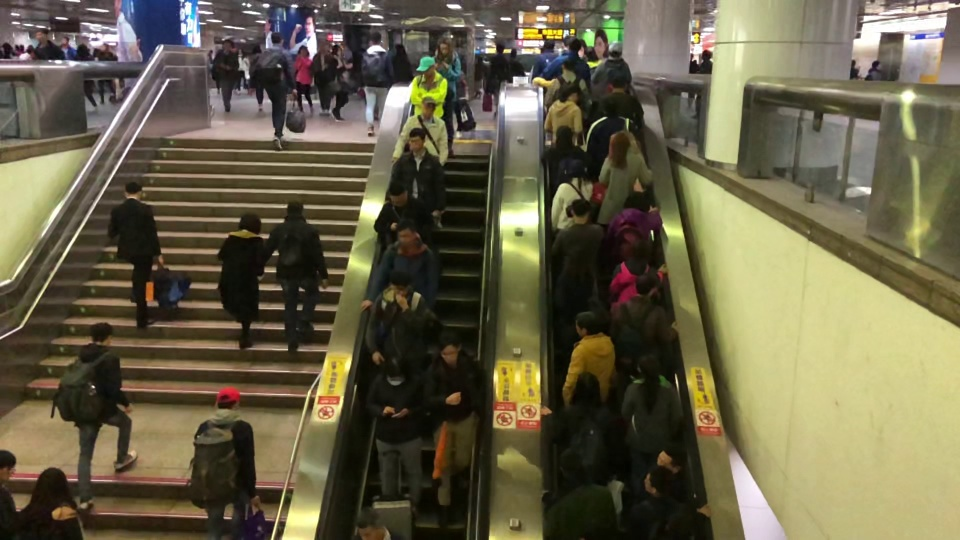person_head: (30, 466, 76, 514), (569, 370, 603, 411), (353, 505, 387, 539), (641, 466, 675, 500), (561, 244, 591, 278), (607, 132, 632, 171), (382, 355, 409, 386), (656, 446, 684, 475), (573, 310, 601, 338), (622, 191, 651, 216), (439, 335, 463, 365), (636, 351, 661, 379), (0, 448, 17, 488), (214, 387, 241, 412), (389, 271, 412, 299), (569, 199, 592, 225), (635, 273, 658, 299), (627, 238, 651, 262), (90, 322, 113, 346), (396, 220, 417, 246), (415, 55, 436, 80), (388, 183, 409, 208), (408, 127, 428, 153), (436, 35, 453, 64), (239, 213, 261, 235), (601, 94, 622, 117), (565, 157, 586, 179), (559, 84, 582, 104), (418, 95, 437, 119), (609, 73, 628, 95), (555, 125, 574, 146), (124, 181, 143, 200), (286, 198, 303, 217), (608, 41, 623, 58), (33, 27, 48, 43), (567, 38, 582, 54), (270, 31, 284, 48), (584, 46, 599, 61), (368, 30, 382, 45), (561, 59, 575, 74), (393, 43, 408, 56), (561, 35, 573, 51), (76, 43, 89, 56), (221, 39, 234, 52), (542, 38, 555, 51), (298, 43, 310, 57), (701, 49, 713, 63), (318, 39, 329, 53), (332, 44, 343, 56), (1, 42, 12, 51), (496, 43, 505, 54), (871, 60, 882, 69), (253, 44, 261, 55), (510, 47, 517, 59), (62, 35, 70, 45), (237, 48, 245, 56), (103, 42, 110, 51)
person_vbox: (50, 322, 137, 511), (425, 333, 486, 522), (191, 385, 260, 540), (364, 352, 428, 518), (261, 199, 329, 355), (618, 350, 685, 496), (539, 370, 622, 486), (108, 181, 164, 329), (610, 275, 681, 387), (391, 96, 449, 229), (363, 270, 442, 366), (360, 222, 440, 314), (551, 198, 606, 320), (592, 132, 654, 234), (218, 214, 264, 350), (627, 467, 712, 540), (386, 127, 447, 224), (561, 308, 617, 413), (608, 238, 669, 322), (604, 194, 663, 280), (17, 467, 84, 540), (586, 92, 637, 183), (542, 481, 619, 540), (260, 33, 298, 150), (374, 182, 435, 252), (550, 248, 605, 317), (360, 30, 394, 136), (432, 35, 461, 157), (551, 159, 594, 238), (546, 124, 588, 198), (542, 86, 587, 151), (545, 59, 592, 120), (594, 73, 644, 126), (410, 56, 448, 119), (590, 40, 632, 97), (212, 39, 240, 112), (350, 505, 407, 540), (485, 43, 511, 119), (555, 38, 591, 91), (311, 39, 334, 115), (689, 48, 713, 118), (328, 43, 349, 122), (293, 45, 315, 116), (75, 43, 98, 108), (0, 450, 16, 540), (540, 34, 572, 79), (98, 41, 118, 104), (532, 37, 559, 80), (33, 26, 66, 60), (249, 45, 265, 111), (390, 43, 414, 82), (506, 48, 527, 83), (583, 45, 603, 78), (237, 48, 250, 95), (60, 34, 79, 60), (864, 60, 884, 82), (1, 41, 17, 59)
